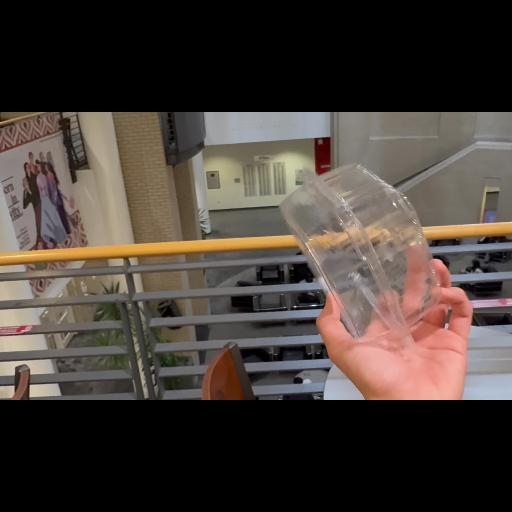small_plastic_container: (270, 160, 456, 364)
